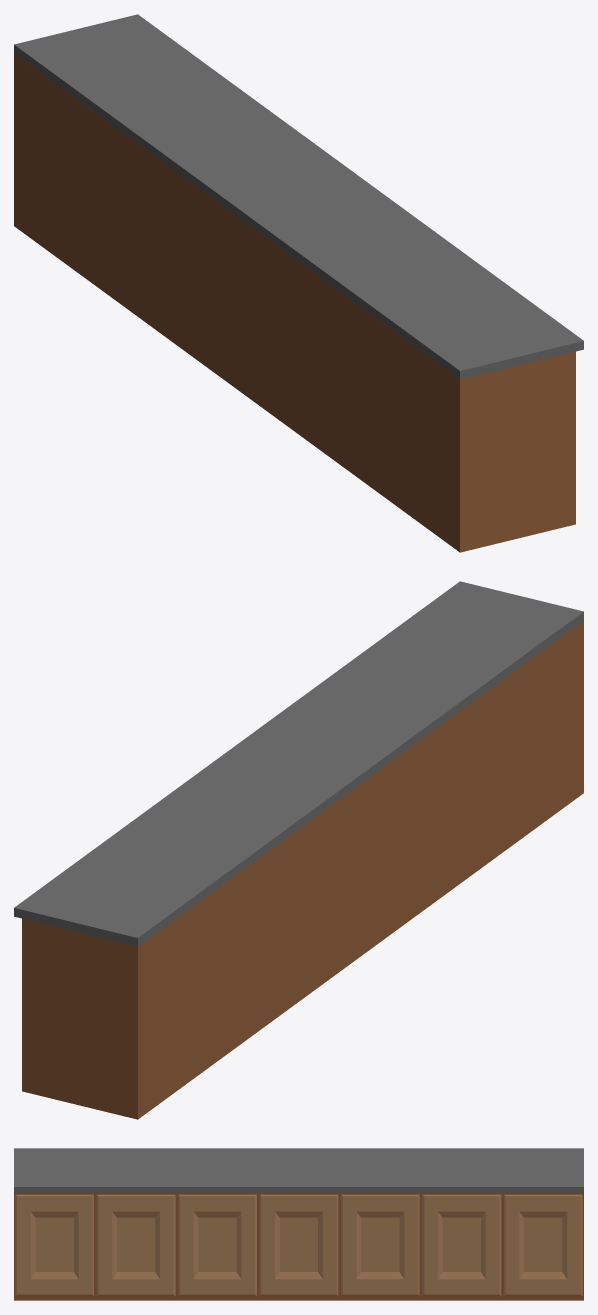
The model's file is Counter_Kitchen.fbx.
3 renders of one model, top to bottom at view 1: azimuth 30°, elevation 25°; view 2: azimuth 150°, elevation 25°; view 3: azimuth 270°, elevation 25°, orthographic. The views are drawn at different scales.
Parts seen in each view (by area): view 1: Cube; view 2: Cube; view 3: Cube.
Boxes of the visible parts, x1,y1,x2,y2 form: Cube: (14,14,583,552); Cube: (14,581,583,1119); Cube: (14,1148,583,1300).
Size of the model in its own units: 64.14 by 89.85 by 400.
